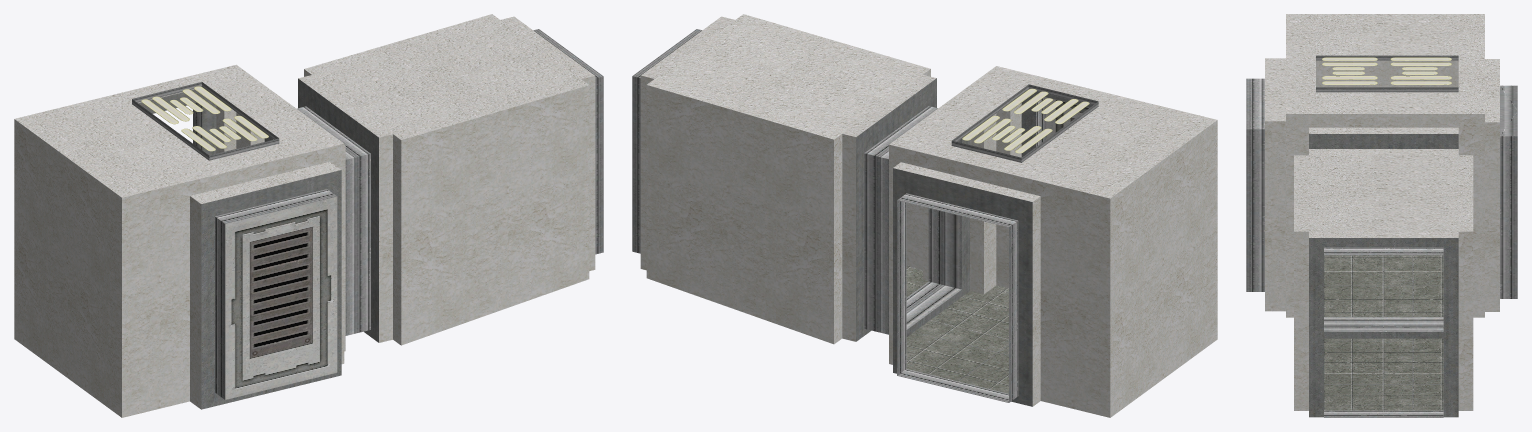
File: ply_corl_house_lg_s02_fp1_r7_hallway3_mesh_r7.fbx
The picture shows the model from 3 angles, left to right: view 1: azimuth 30°, elevation 25°; view 2: azimuth 150°, elevation 25°; view 3: azimuth 270°, elevation 25°; orthographic projection. The views are drawn at different scales.
Parts seen in each view (by area): view 1: mesh_node; view 2: mesh_node; view 3: mesh_node.
Part boxes in pixels (x1,y1,x2,y2): mesh_node: [14, 14, 603, 417]; mesh_node: [632, 14, 1217, 417]; mesh_node: [1246, 14, 1517, 417].
Size of the model in its own units: 8.95 by 3.84 by 4.54.
